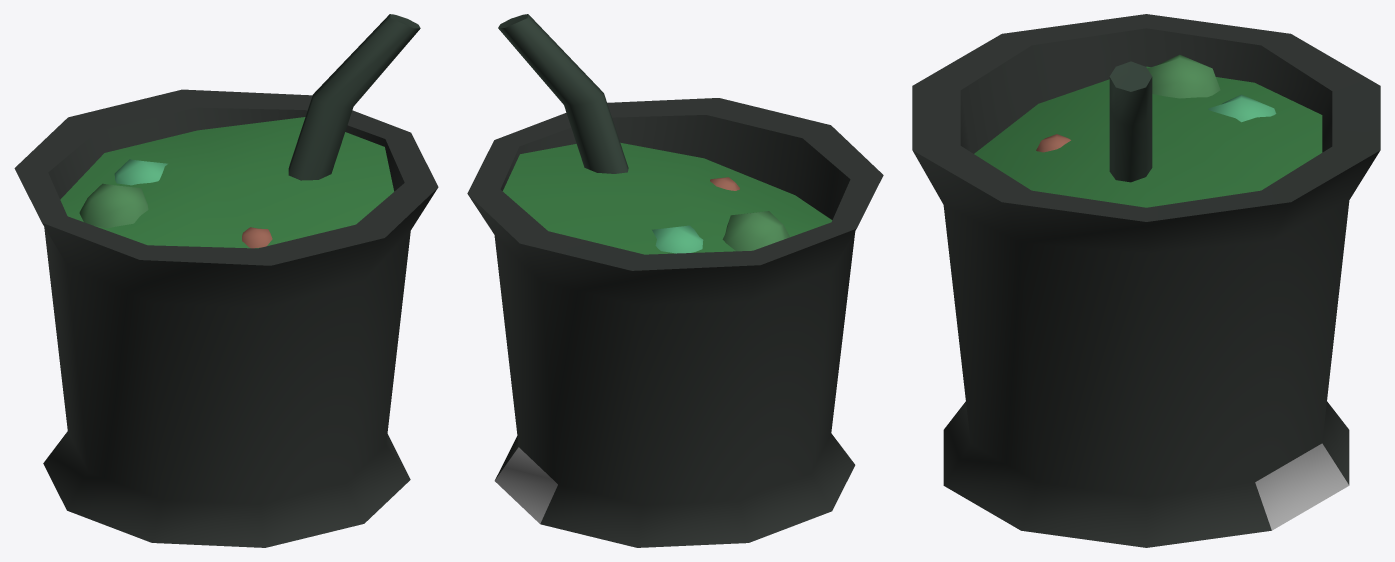
Rendered from Junk_Juice.fbx.
3 views of the same model, side by side, from view 1: azimuth 30°, elevation 25°; view 2: azimuth 150°, elevation 25°; view 3: azimuth 270°, elevation 25° (orthographic). The views are drawn at different scales.
Parts seen in each view (by area): view 1: Junk_Juice; view 2: Junk_Juice; view 3: Junk_Juice.
Part boxes in pixels (x1,y1,x2,y2): Junk_Juice: (14,14,438,547); Junk_Juice: (467,14,883,547); Junk_Juice: (912,14,1380,547).
Size of the model in its own units: 0.5061 by 0.5492 by 0.4806.
